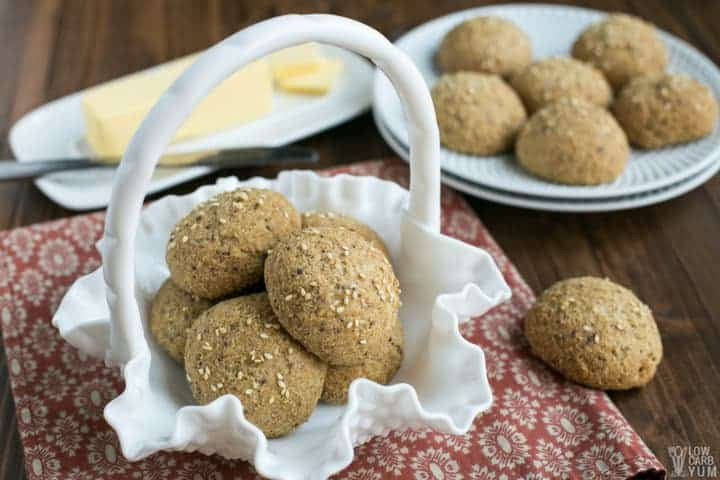hamburger_buns: (153, 192, 392, 433)
